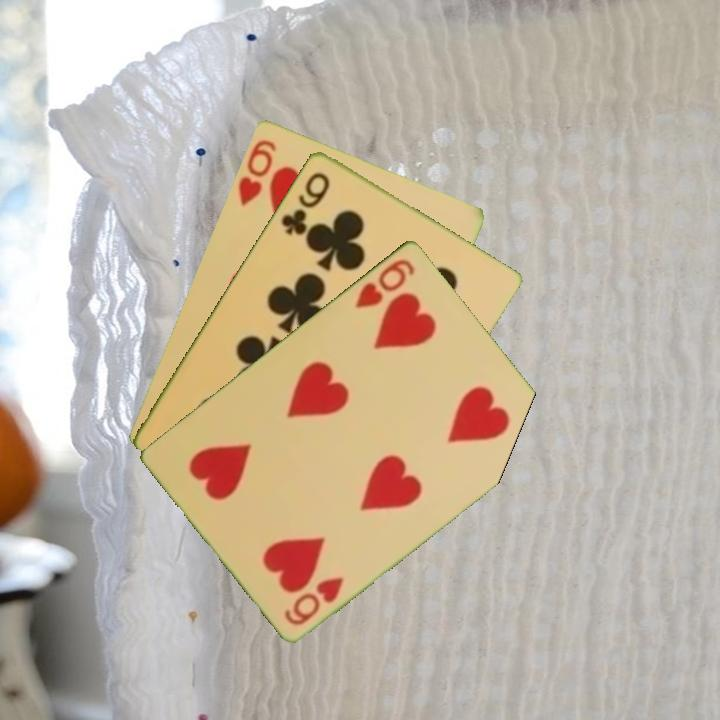6h: (351, 254, 418, 311), (280, 572, 347, 628), (234, 135, 279, 209)
9c: (277, 168, 333, 238)
